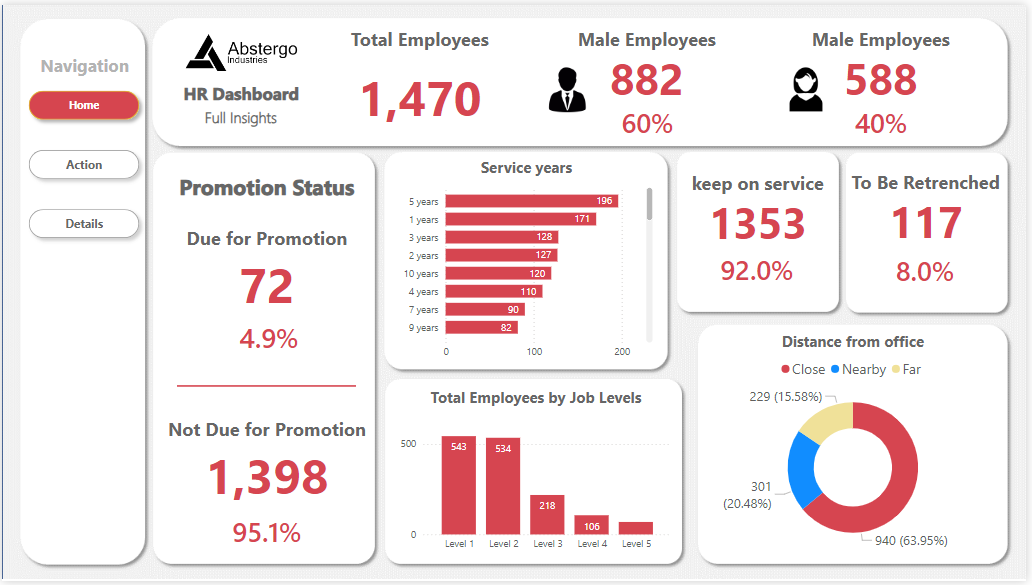

The page's visual inventory and layout, read from the dashboard file:
{"tool":"powerbi","page":{"name":"Home","canvas":[1280,720],"ordinal":0},"visuals":[{"type":"textbox","box":[206.2,91.1,185.7,42.2],"z":0},{"type":"image","box":[217.6,27.3,162.9,63.8],"z":1000},{"type":"textbox","box":[239.2,123,119.6,43.3],"z":2000},{"type":"card","title":"Total Employees","fields":{"Values":["Measure Table._Total Employees"]},"box":[422.8,27,199.2,140.1],"z":3000},{"type":"card","title":"Male Employees","fields":{"Values":["Measure Table._Male Employees"]},"box":[706.3,27.3,199.4,95.7],"z":4000},{"type":"card","title":"Male Employees","fields":{"Values":["Measure Table._Male Emp %"]},"box":[758.7,127.4,96.1,39.4],"z":5000},{"type":"card","title":"Male Employees","fields":{"Values":["Measure Table._Female Employees"]},"box":[999.1,27.3,199.4,95.7],"z":6000},{"type":"card","title":"Male Employees","fields":{"Values":["Measure Table._Female Emp %"]},"box":[1058.8,127.4,79.9,39.4],"z":7000},{"type":"image","box":[673.3,69.5,66.1,71.8],"z":8000},{"type":"image","box":[972.9,69.5,64.9,71.8],"z":9000},{"type":"card","title":"Due for Promotion","fields":{"Values":["Measure Table._Due for Promotion"]},"box":[195.8,275.7,269.9,110],"z":10000},{"type":"textbox","box":[201.6,203.9,259.5,49.8],"z":11000},{"type":"card","title":"Male Employees","fields":{"Values":["Measure Table._Due for Promo %"]},"box":[276.9,396.2,114.7,40.5],"z":12000},{"type":"card","title":"Not Due for Promotion","fields":{"Values":["Measure Table._Not Due for Promotion"]},"box":[195.8,515.5,269.9,110],"z":13000},{"type":"card","title":"Male Employees","fields":{"Values":["Measure Table._Not Due for Promo %"]},"box":[273.4,638.3,114.7,40.5],"z":14000},{"type":"shape","box":[218.9,468,223.6,17.4],"z":15000},{"type":"barChart","title":"Service years","fields":{"Category":["HR Analytics Data.Service years"],"Y":["Measure Table._Total Employees"]},"box":[492.2,190.3,325.8,260.9],"z":16000},{"type":"columnChart","fields":{"Y":["Measure Table._Total Employees"],"Category":["HR Analytics Data.Job Levels"]},"box":[492.3,477.2,349.8,214.3],"z":17000},{"type":"card","title":"To Be Retrenched","fields":{"Values":["Measure Table._Retrenched"]},"box":[1054.7,205.9,199.4,95.7],"z":18000},{"type":"card","title":"Male Employees","fields":{"Values":["Measure Table._Retrenched %"]},"box":[1111.6,312.5,84.8,39.5],"z":19000},{"type":"card","title":"keep on service","fields":{"Values":["Measure Table._Service"]},"box":[845.2,207.8,199.4,95.7],"z":20000},{"type":"card","title":"Male Employees","fields":{"Values":["Measure Table._Service %"]},"box":[883.9,312.5,119.6,37.2],"z":21000},{"type":"donutChart","title":"Distance from office","fields":{"Category":["HR Analytics Data.Distance Status"],"Y":["Measure Table._Total Employees"]},"box":[872.3,407.7,382.1,283.4],"z":22000},{"type":"pageNavigator","box":[22.8,96.8,160.6,206.2],"z":22001},{"type":"textbox","box":[22.8,55.8,161.8,37.6],"z":22002}]}

Visuals, with their boxes in screenshot pixels (x1, y1, x2, y2), scaled from the page's 1280x720 canvas onto the 1032x585 screenshot:
textbox: left=166, top=74, right=316, bottom=108
image: left=175, top=22, right=307, bottom=74
textbox: left=193, top=100, right=289, bottom=135
"Total Employees" card: left=341, top=22, right=501, bottom=136
"Male Employees" card: left=569, top=22, right=730, bottom=100
"Male Employees" card: left=612, top=104, right=689, bottom=136
"Male Employees" card: left=806, top=22, right=966, bottom=100
"Male Employees" card: left=854, top=104, right=918, bottom=136
image: left=543, top=56, right=596, bottom=115
image: left=784, top=56, right=837, bottom=115
"Due for Promotion" card: left=158, top=224, right=375, bottom=313
textbox: left=163, top=166, right=372, bottom=206
"Male Employees" card: left=223, top=322, right=316, bottom=355
"Not Due for Promotion" card: left=158, top=419, right=375, bottom=508
"Male Employees" card: left=220, top=519, right=313, bottom=552
shape: left=176, top=380, right=357, bottom=394
"Service years" barChart: left=397, top=155, right=660, bottom=367
columnChart - Measure Table._Total Employees x HR Analytics Data.Job Levels: left=397, top=388, right=679, bottom=562
"To Be Retrenched" card: left=850, top=167, right=1011, bottom=245
"Male Employees" card: left=896, top=254, right=965, bottom=286
"keep on service" card: left=681, top=169, right=842, bottom=247
"Male Employees" card: left=713, top=254, right=809, bottom=284
"Distance from office" donutChart: left=703, top=331, right=1011, bottom=562
pageNavigator: left=18, top=79, right=148, bottom=246
textbox: left=18, top=45, right=149, bottom=76
